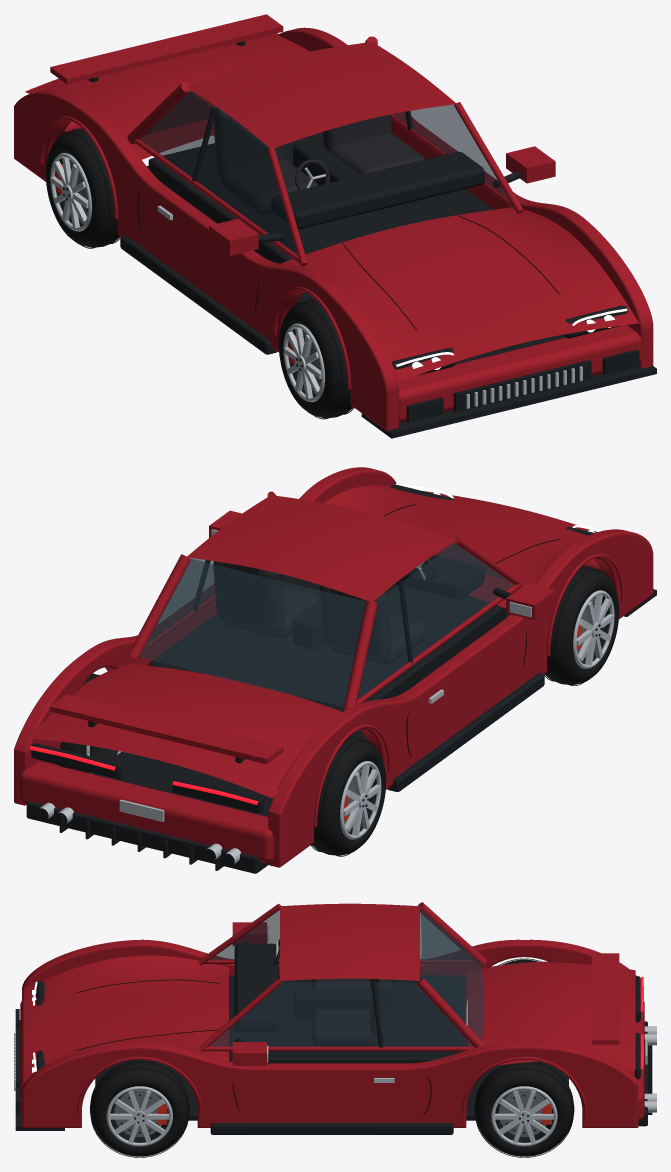
Rendered from velocity-gt-detailed-v1.glb.
The picture shows the model from 3 angles, top to bottom: view 1: azimuth 30°, elevation 25°; view 2: azimuth 150°, elevation 25°; view 3: azimuth 270°, elevation 25°; orthographic projection. The views are drawn at different scales.
Parts seen in each view (by area): view 1: Sunset_Red_Clearcoat, Graphite_Trim, Smoked_Automotive_Glass, Charcoal_Leather, Performance_Rubber (×2), Forged_Aluminium (×3); view 2: Sunset_Red_Clearcoat, Graphite_Trim, Smoked_Automotive_Glass, Charcoal_Leather, Performance_Rubber (×3), Forged_Aluminium (×3), LED_Rear_Lights; view 3: Sunset_Red_Clearcoat, Graphite_Trim, Smoked_Automotive_Glass, Performance_Rubber (×2), Forged_Aluminium (×3), Charcoal_Leather, Ventilated_Brake_Disc (×2), Tire_Grooves (×2), Panel_Shut_Lines.
Boxes of the visible parts, <box> form: Sunset_Red_Clearcoat: <box>14,14,653,431</box>; Graphite_Trim: <box>88,41,656,438</box>; Smoked_Automotive_Glass: <box>140,90,509,254</box>; Charcoal_Leather: <box>214,108,424,214</box>; Performance_Rubber (×2): <box>45,128,353,418</box>; Forged_Aluminium (×3): <box>50,153,582,408</box>; Sunset_Red_Clearcoat: <box>14,467,653,867</box>; Graphite_Trim: <box>26,485,656,873</box>; Smoked_Automotive_Glass: <box>139,543,513,706</box>; Charcoal_Leather: <box>213,559,436,663</box>; Performance_Rubber (×3): <box>59,566,619,855</box>; Forged_Aluminium (×3): <box>39,529,614,864</box>; LED_Rear_Lights: <box>29,746,258,805</box>; Sunset_Red_Clearcoat: <box>20,902,644,1127</box>; Graphite_Trim: <box>15,941,652,1134</box>; Smoked_Automotive_Glass: <box>209,907,483,1046</box>; Performance_Rubber (×2): <box>90,1061,574,1156</box>; Forged_Aluminium (×3): <box>14,926,656,1146</box>; Charcoal_Leather: <box>273,939,393,1046</box>; Ventilated_Brake_Disc (×2): <box>114,1090,546,1136</box>; Tire_Grooves (×2): <box>90,1060,573,1157</box>; Panel_Shut_Lines: <box>74,979,431,1115</box>.
Bounding box in the file's own units: 2.26 × 1.35 × 4.68.
